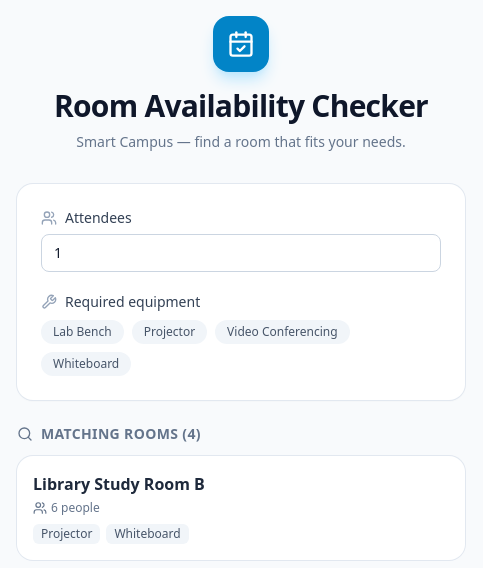
Test: App integration › shows empty-state message when no rooms match
The width and height of the screenshot is (483, 568).
Replace the text in the number field labelled "Attendees" with "999" at {"x": 241, "y": 253}, box [41,234,441,272]
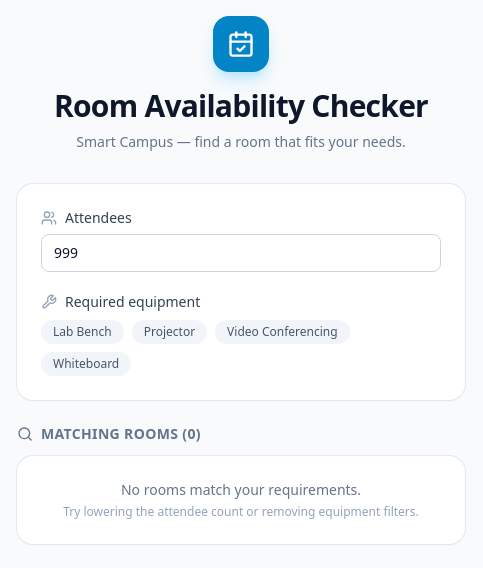
Now the text "No rooms match your requirements." is shown, box [121,480,361,499]
